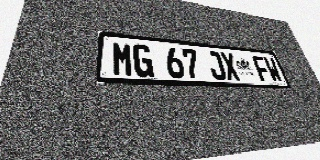6: (164, 47, 186, 79)
7: (180, 48, 202, 79)
F: (251, 55, 273, 82)
G: (132, 43, 154, 77)
J: (206, 51, 227, 80)
M: (112, 41, 134, 77)
W: (262, 57, 284, 82)
X: (219, 52, 241, 81)
